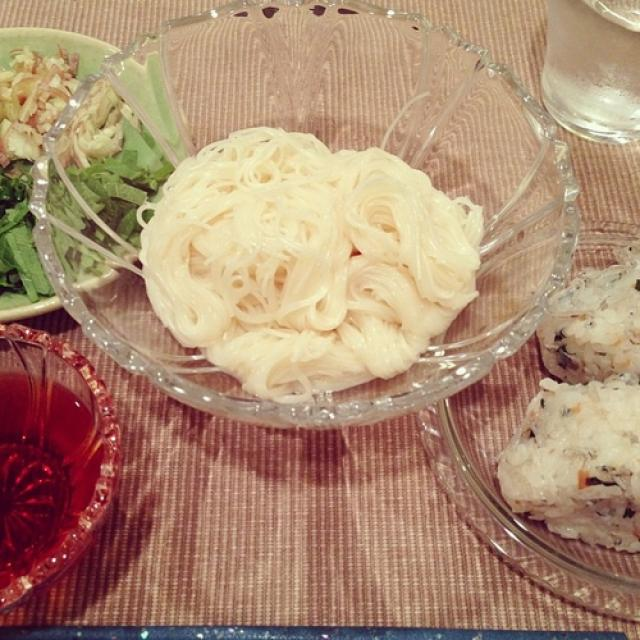面条主食: (5, 10, 638, 626)
